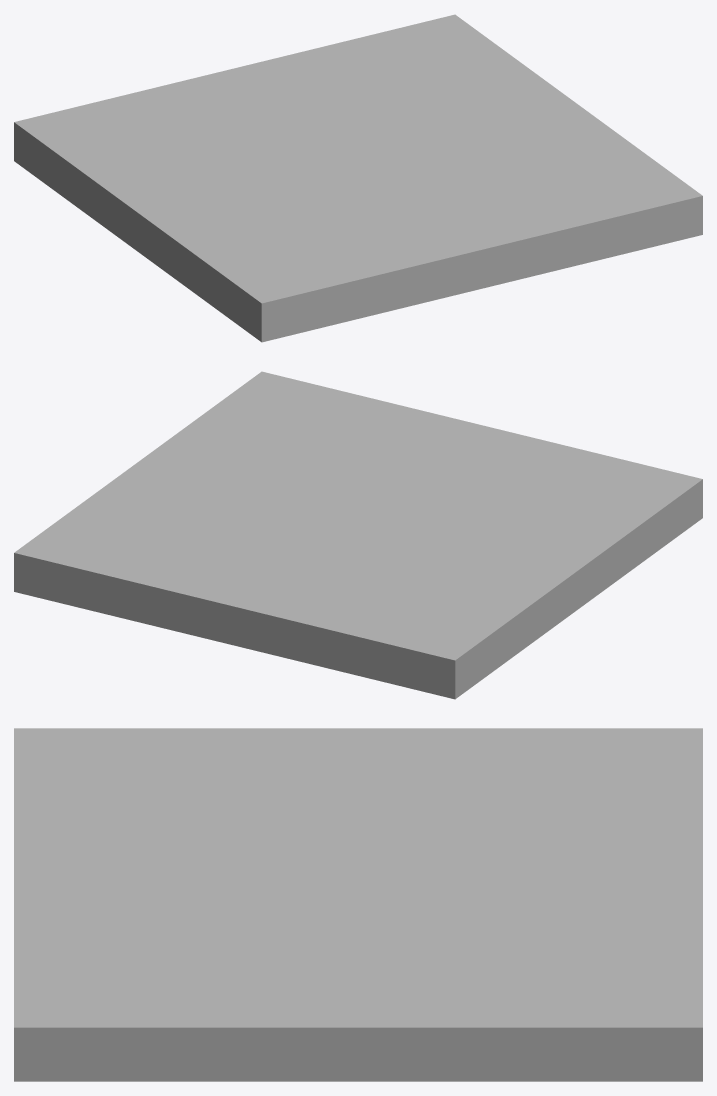
File: Drainage_Gate.fbx
3 views of the same model, one above another, from view 1: azimuth 30°, elevation 25°; view 2: azimuth 150°, elevation 25°; view 3: azimuth 270°, elevation 25° (orthographic). The views are drawn at different scales.
Parts seen in each view (by area): view 1: Trim_Low001; view 2: Trim_Low001; view 3: Trim_Low001.
Part boxes in pixels (box(x1,y1,x2,y2)): Trim_Low001: box(14, 14, 702, 342); Trim_Low001: box(14, 371, 702, 699); Trim_Low001: box(14, 728, 702, 1081).
Bounding box in the file's own units: 59.06 × 4.99 × 57.45.
